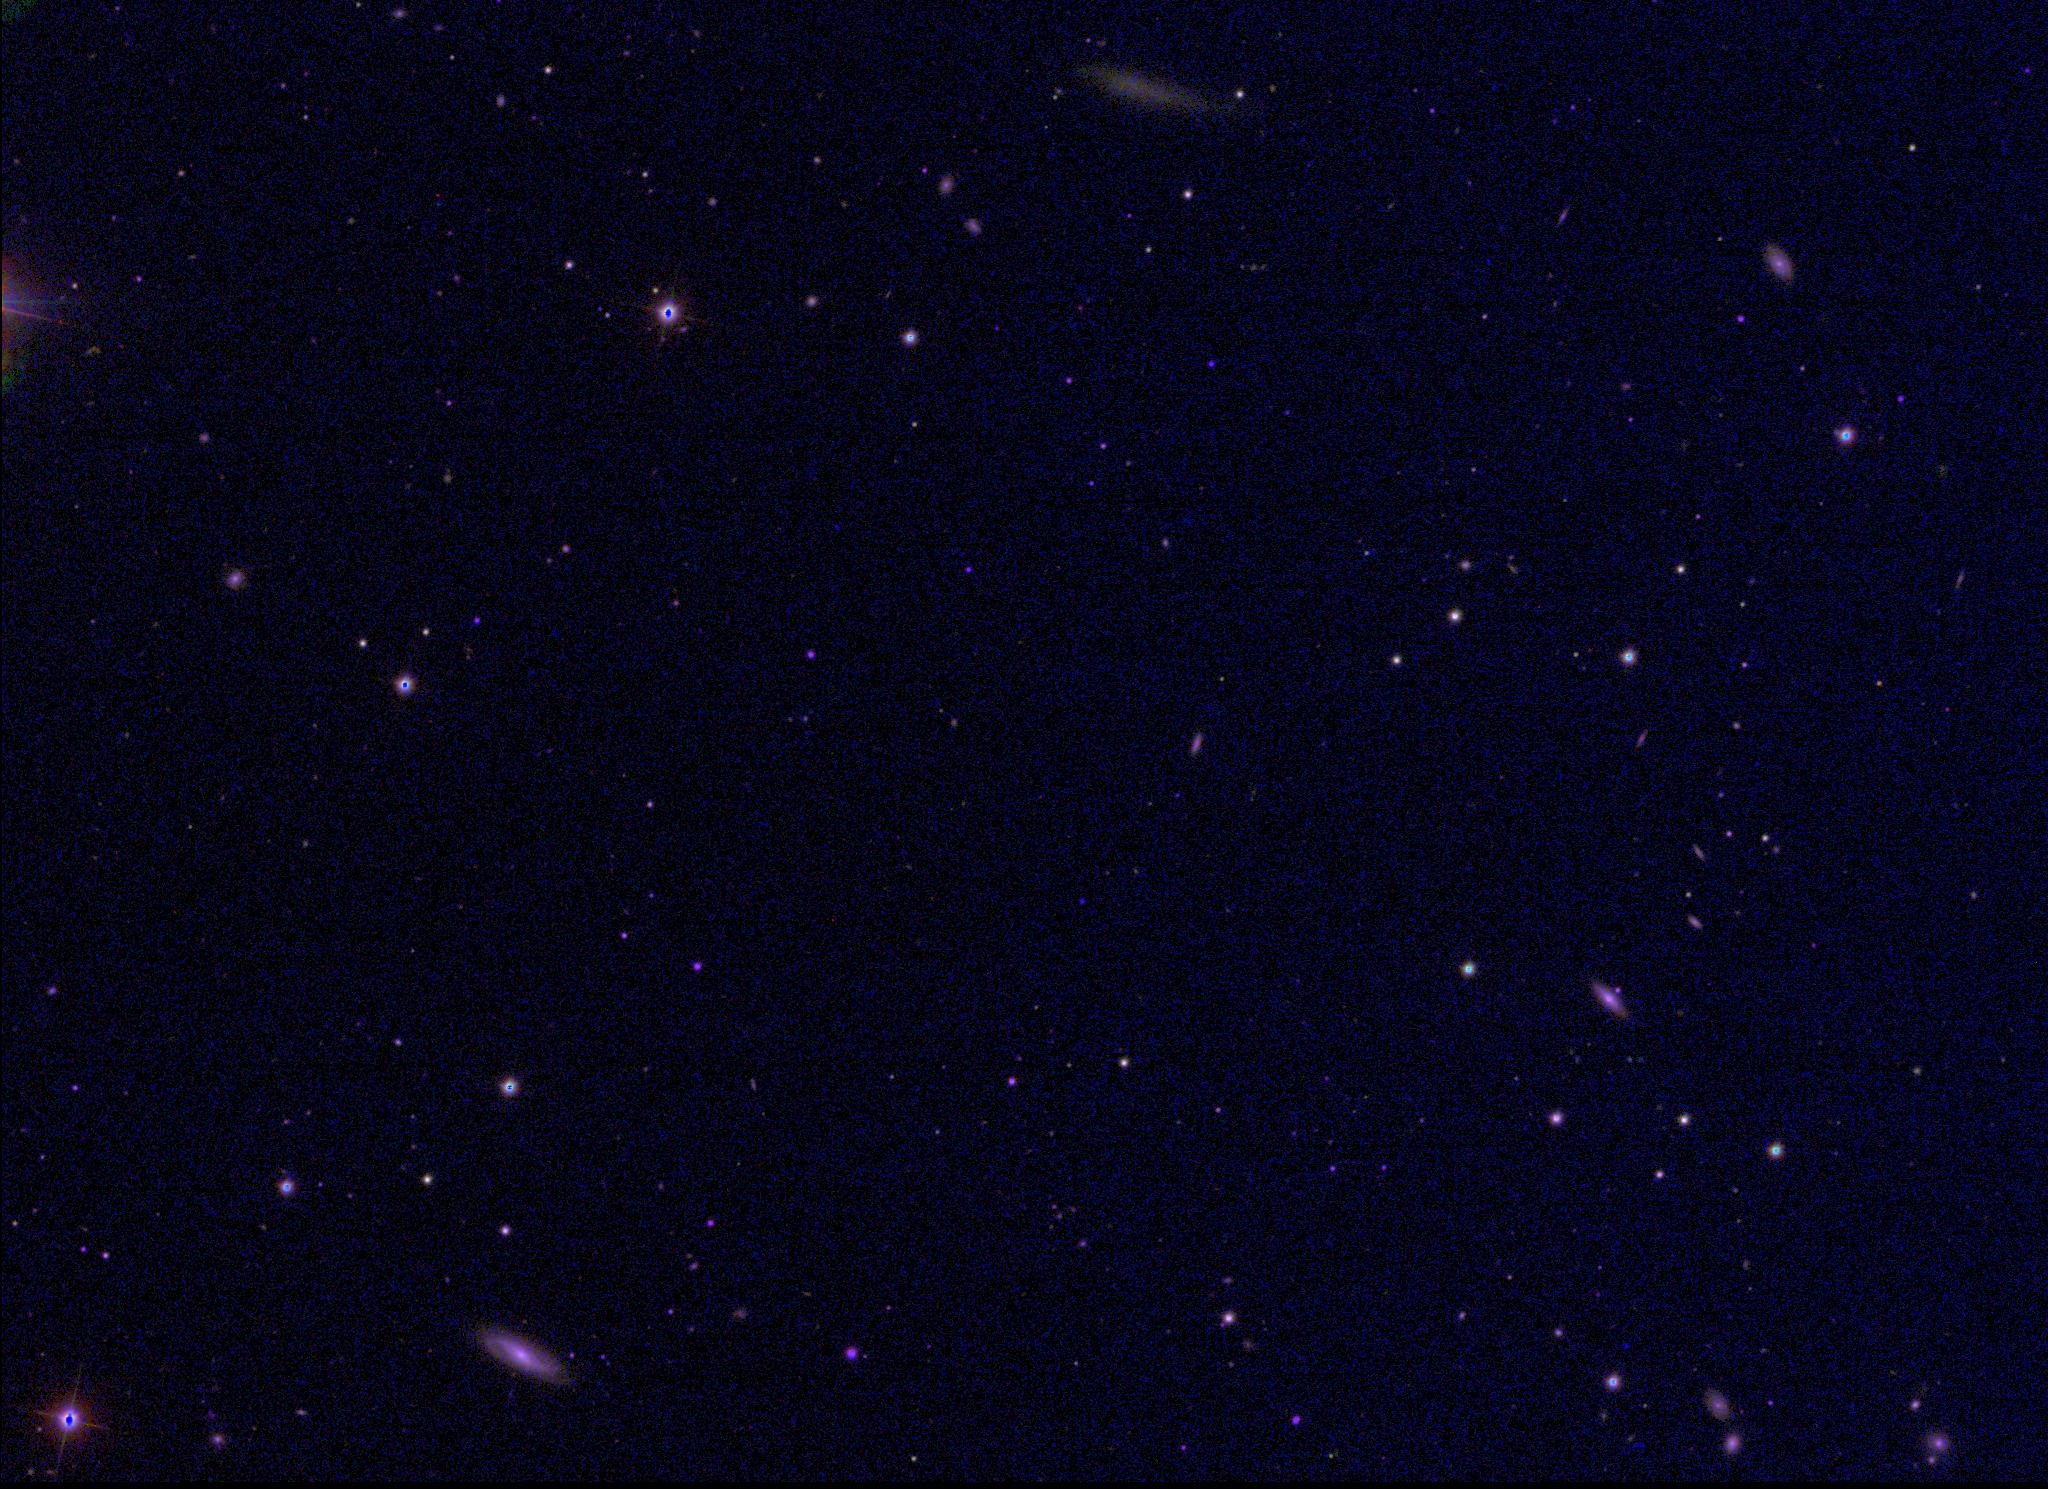L: (1073, 894, 1088, 908)
